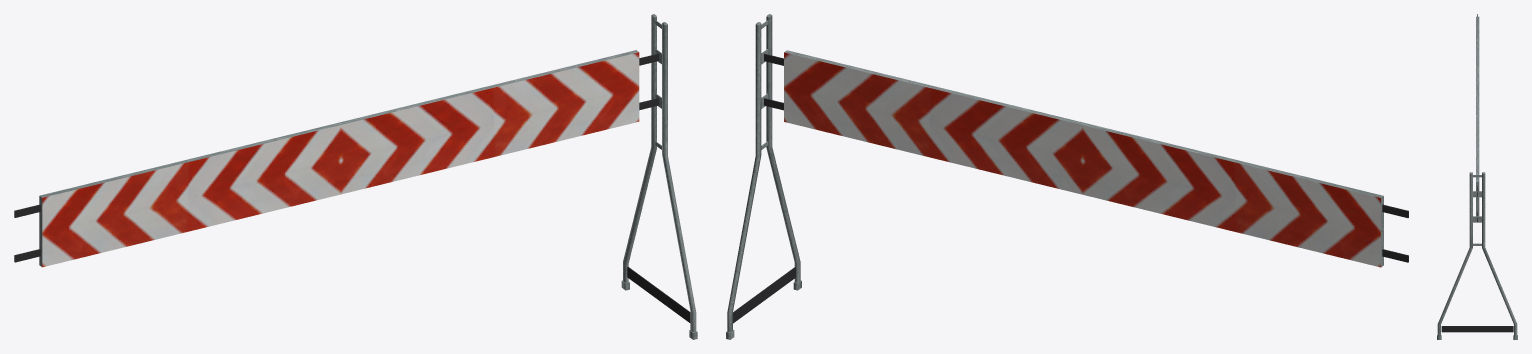
The model's file is RoadBarrier_02.FBX.
3 views of the same model, side by side, from view 1: azimuth 30°, elevation 25°; view 2: azimuth 150°, elevation 25°; view 3: azimuth 270°, elevation 25° (orthographic). The views are drawn at different scales.
Visible parts, largest first — view 1: SL1, SL_St; view 2: SL1, SL_St; view 3: SL_St, SL1.
Boxes of the visible parts, x1,y1,x2,y2 form: SL1: (14,50,659,267); SL_St: (621,14,697,339); SL1: (764,50,1408,267); SL_St: (726,14,801,339); SL_St: (1437,172,1517,339); SL1: (1476,14,1479,222).
Bounding box in the file's own units: 3.05 × 1.32 × 0.5828.
